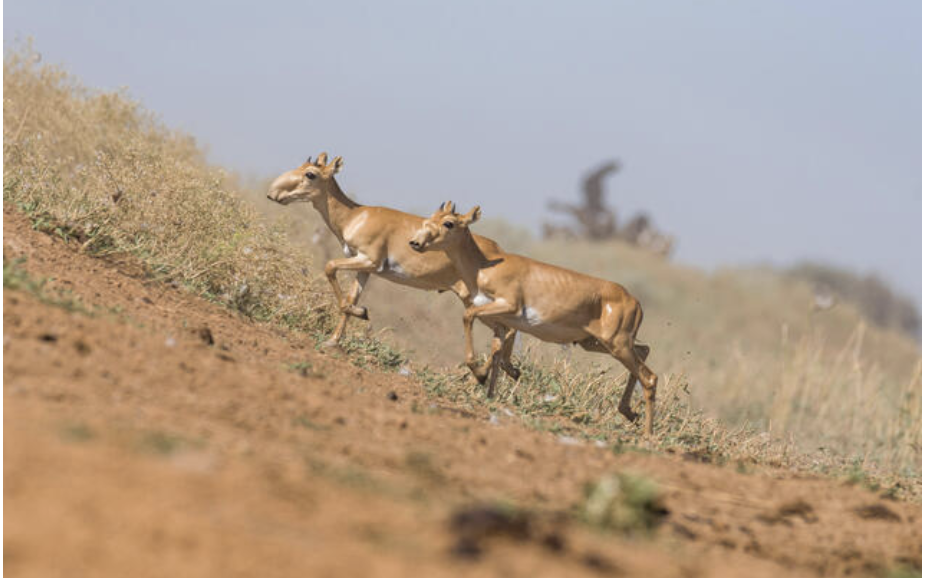saiga: (396, 193, 667, 432)
